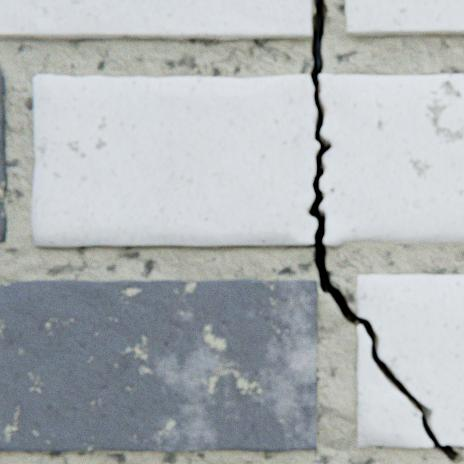brick: (0, 279, 317, 451), (0, 0, 311, 40), (345, 0, 463, 36), (0, 73, 8, 242)
broken_brick: (33, 74, 319, 246), (318, 75, 463, 245), (356, 275, 463, 445), (357, 325, 431, 446)
crack: (307, 0, 462, 463)
